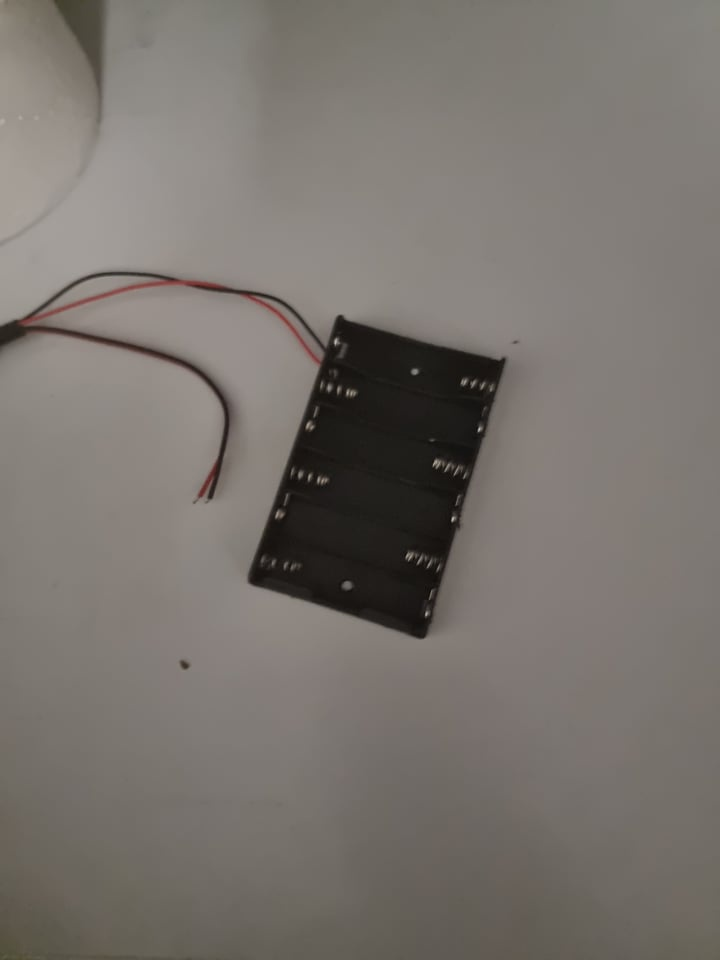BATTERY BOX: (249, 310, 514, 648)
